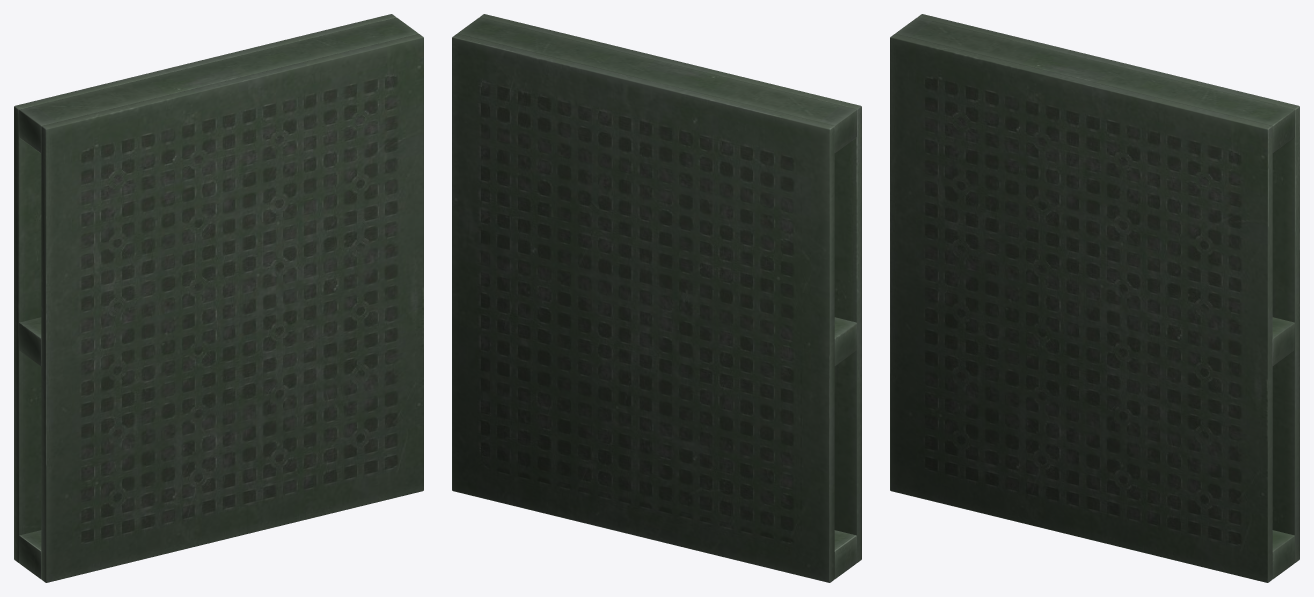
File: pallet.obj
The picture shows the model from 3 angles, left to right: view 1: azimuth 30°, elevation 25°; view 2: azimuth 150°, elevation 25°; view 3: azimuth 330°, elevation 25°; orthographic projection.
Parts seen in each view (by area): view 1: pallet_plastic_pallet_01; view 2: pallet_plastic_pallet_01; view 3: pallet_plastic_pallet_01.
Boxes of the visible parts, x1,y1,x2,y2 form: pallet_plastic_pallet_01: (14, 14, 423, 582); pallet_plastic_pallet_01: (452, 14, 861, 582); pallet_plastic_pallet_01: (890, 14, 1299, 582).
Bounding box in the file's own units: 1.22 × 1.4 × 0.18.
Materials: 1 (1 with a texture image).
